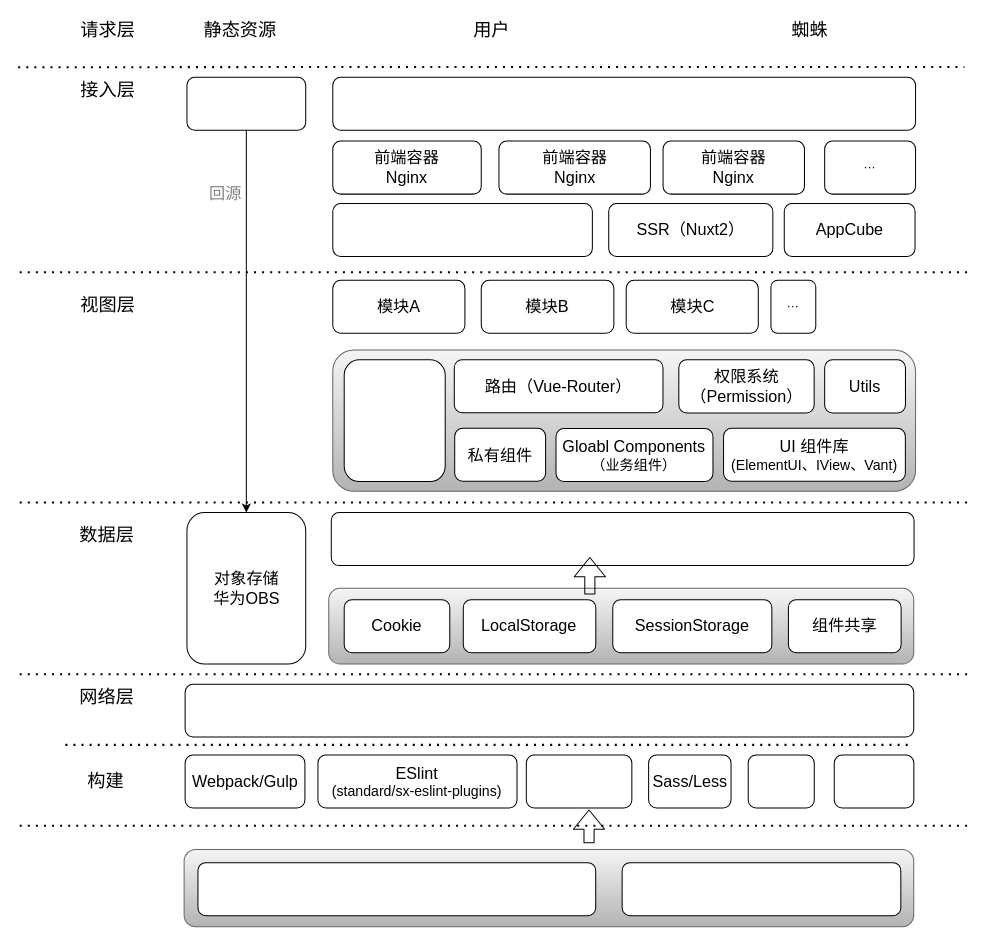
Some shapes in this 989 by 944 pixel diagram are drawn without their labels. Each missing label, with the box of its shape:
API接口: (197, 862, 596, 916)
Axios （HTTP/HTTPS）: (184, 683, 914, 737)
babel: (747, 754, 814, 808)
CDN静态加速: (186, 76, 306, 130)
hw-cli: (833, 754, 914, 808)
Layout 页面容器: (343, 359, 445, 481)
Mock（Apis）: (621, 862, 901, 916)
Npm/Yarn: (525, 754, 632, 808)
SPA（Vue2/3）: (332, 203, 592, 257)
Vuex: (330, 512, 914, 566)
容器网关（Nginx）: (332, 76, 916, 130)
